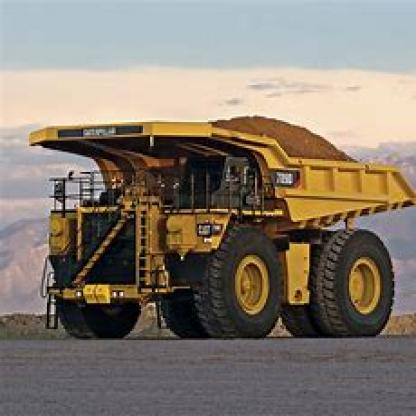dump_truck: (29, 102, 412, 353)
